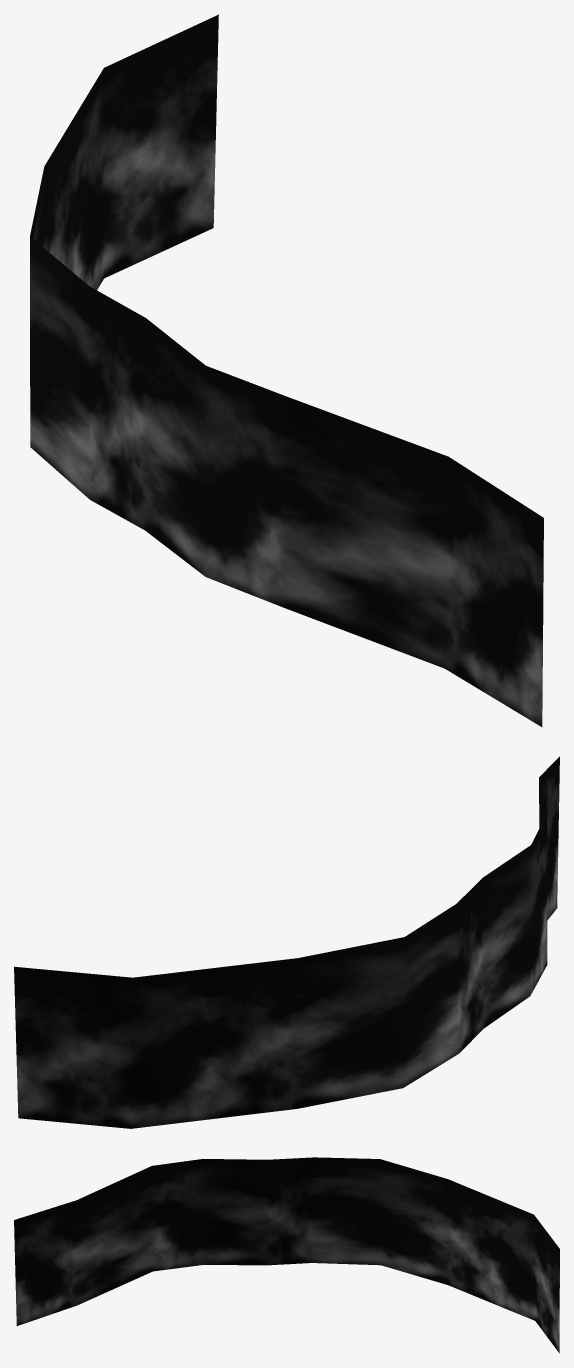
3 renders of one model, top to bottom at view 1: azimuth 30°, elevation 25°; view 2: azimuth 150°, elevation 25°; view 3: azimuth 270°, elevation 25°, orthographic. The views are drawn at different scales.
Visible parts, largest first — view 1: wu05; view 2: wu05; view 3: wu05.
Boxes of the visible parts, x1=… form: wu05: x1=30, y1=14, x2=543, y2=726; wu05: x1=14, y1=756, x2=559, y2=1128; wu05: x1=14, y1=1157, x2=559, y2=1353.
Size of the model in its own units: 1628 by 1080 by 4084.
